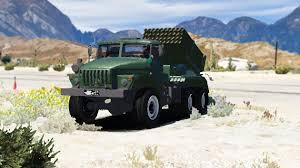MIL_SAM_TEL: (64, 23, 211, 127)
